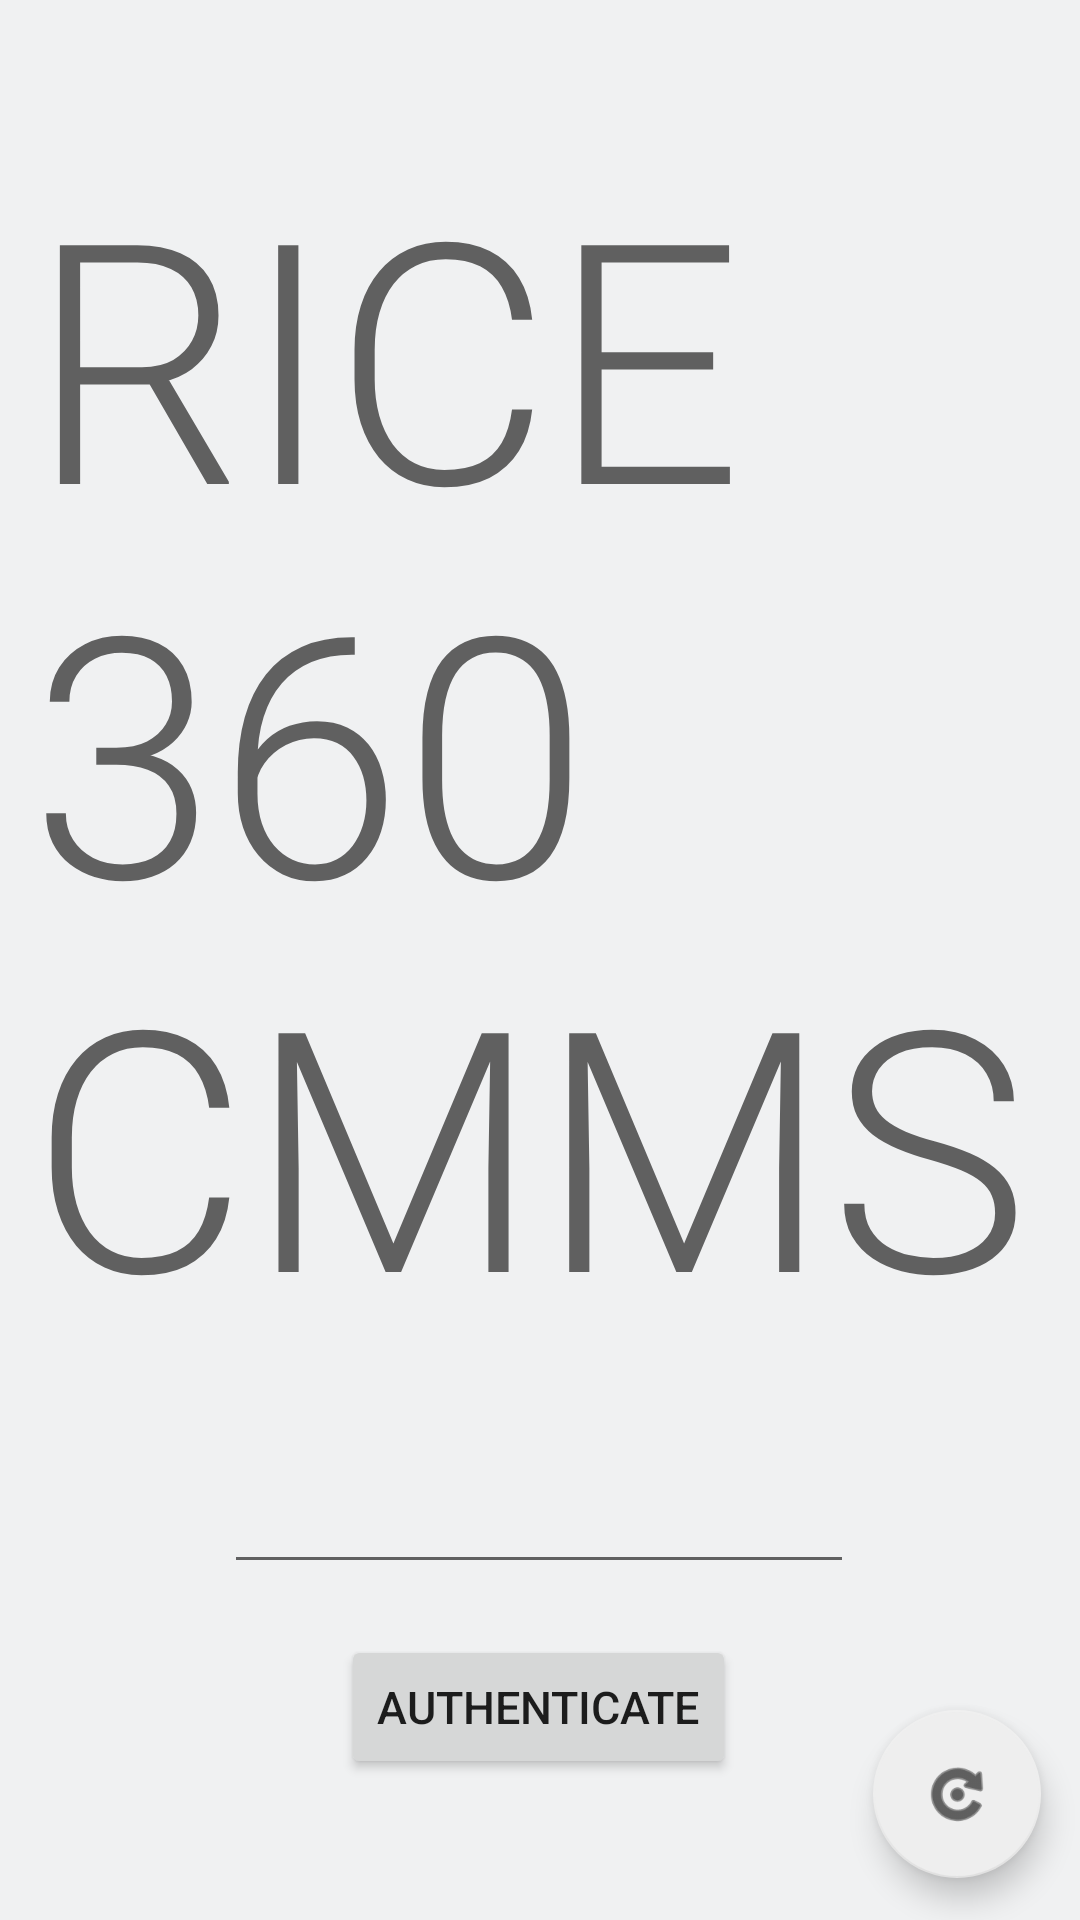

Where to tap for icons on this 1080*1920 app screen, as (x,y):
rotate: (957,1794)
